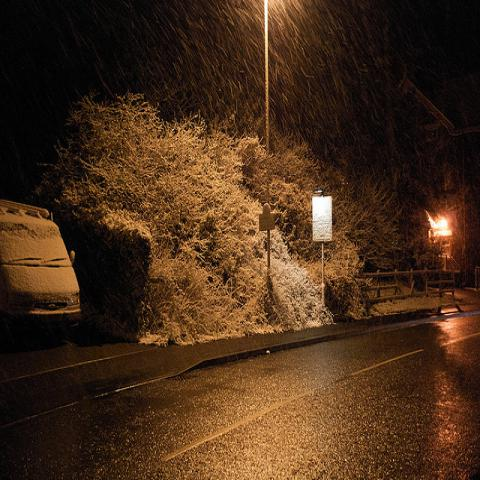car: (3, 198, 81, 318)
